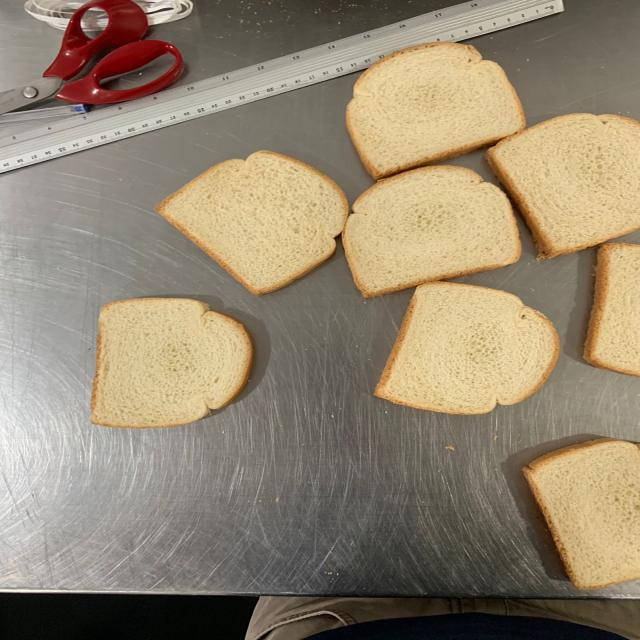pan: (154, 151, 350, 295), (373, 281, 560, 415), (345, 42, 527, 178), (342, 165, 522, 298), (90, 297, 256, 429)
